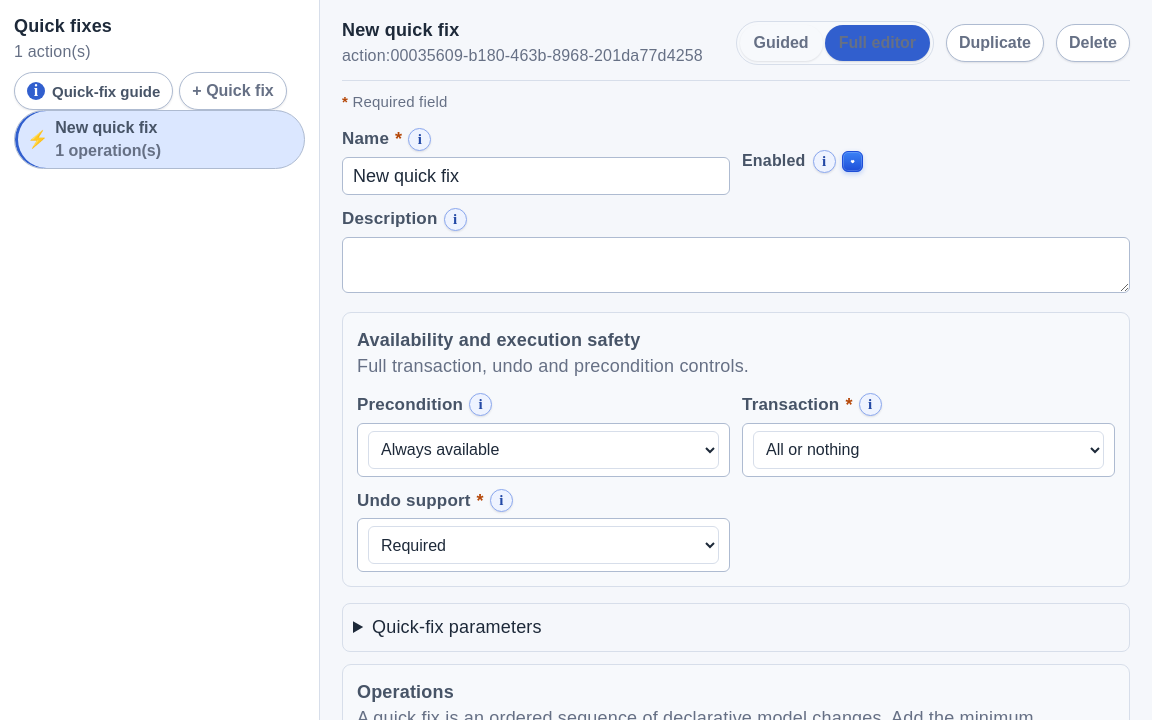
Test: quick-fix form guidance › shows the process guide and identifies required fields
Check: the button named "Information about Name" is shown, box x1=408 y1=128 x2=431 y2=150
Check: the button named "Information about Transaction" is shown, box x1=859 y1=393 x2=882 y2=416
Click the button "i Quick-fix guide": {"x": 94, "y": 91} x1=14 y1=72 x2=173 y2=110
(page scrolled)
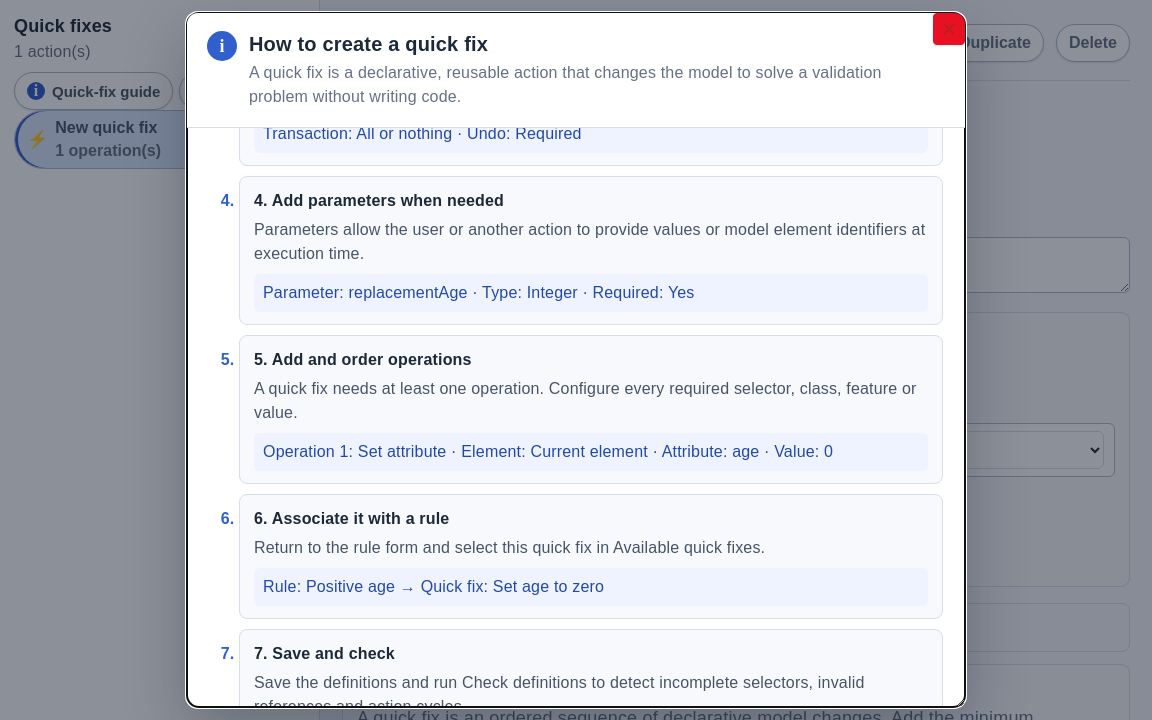
Check: the dialog "How to create a quick fix" is shown
Check: the text "5. Add and order operations" is shown, box x1=254 y1=351 x2=472 y2=368
